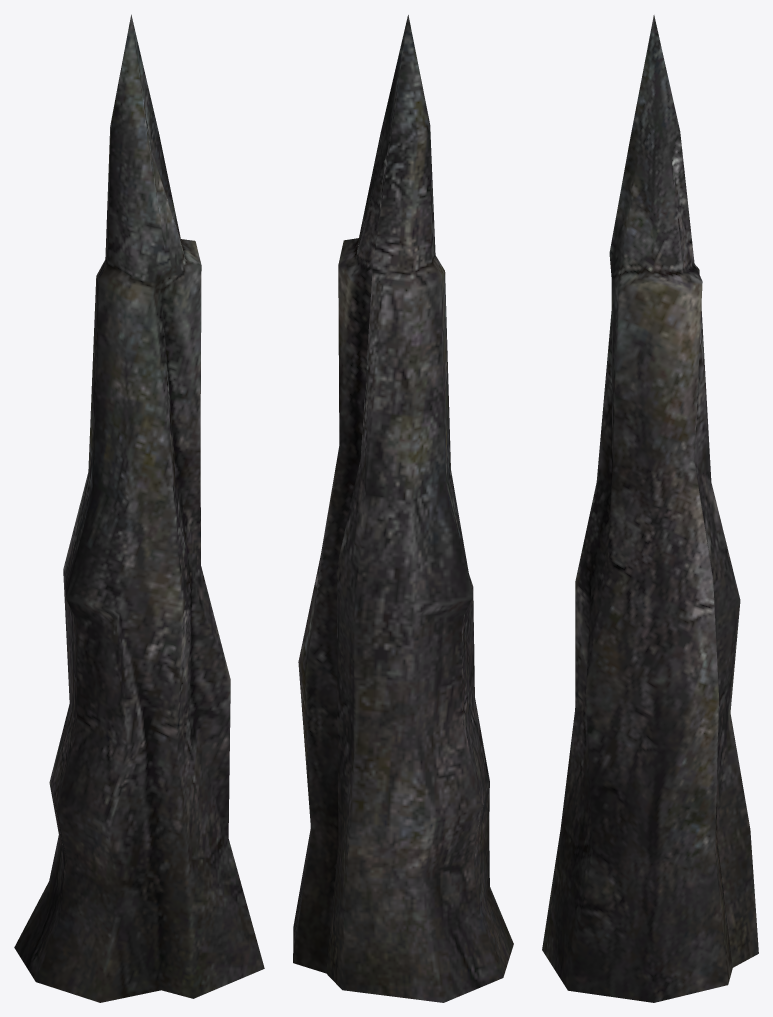
The model's file is spearrock_002.glb.
3 views of the same model, side by side, from view 1: azimuth 30°, elevation 25°; view 2: azimuth 150°, elevation 25°; view 3: azimuth 270°, elevation 25° (orthographic).
Visible parts, largest first — view 1: spear_002; view 2: spear_002; view 3: spear_002.
Part boxes in pixels (bbox=[...]): spear_002: bbox=[14, 14, 264, 1002]; spear_002: bbox=[293, 15, 513, 1002]; spear_002: bbox=[542, 15, 758, 1002].
Bounding box in the file's own units: 2.68 × 11.48 × 2.42.
1 material, 1 textured.
